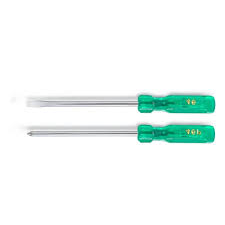screwdriver: (25, 124, 217, 149)
